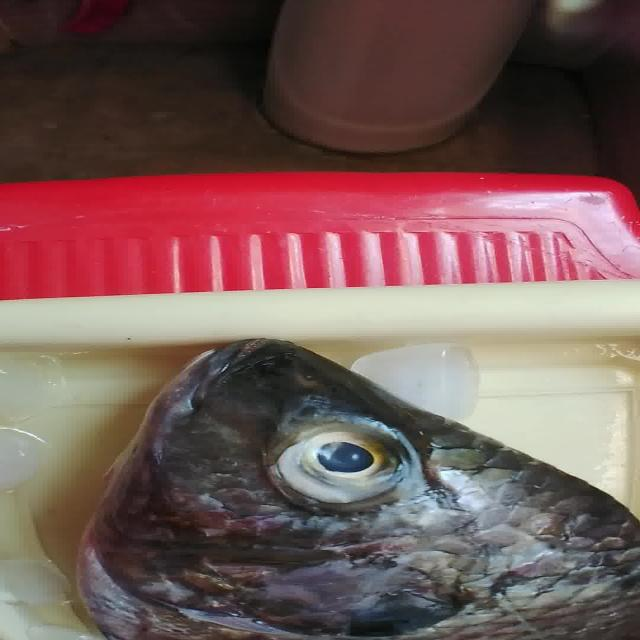Fresh: (265, 422, 428, 512)
